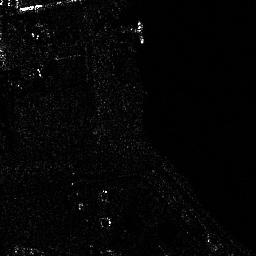ship: (135, 20, 146, 46)
